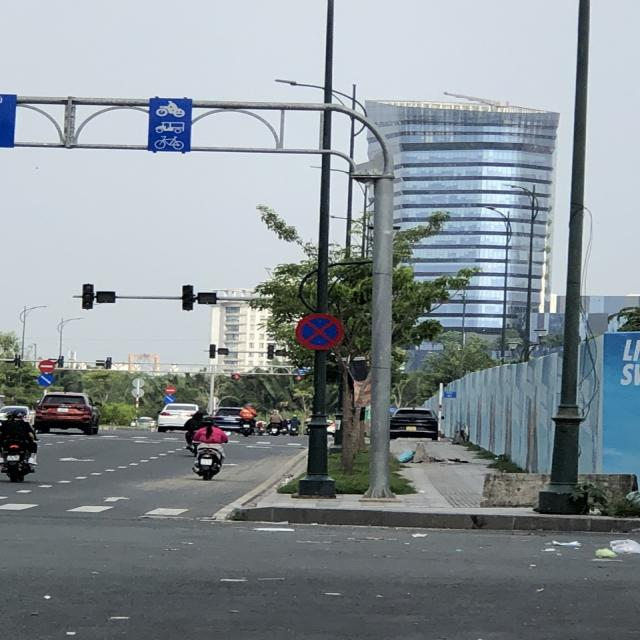Bien bao cam dung xe va do xe: (290, 308, 347, 354)
